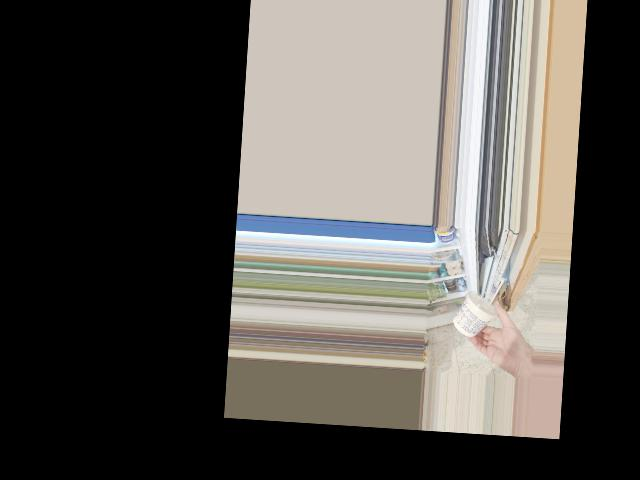cotage: (456, 293, 502, 340)
